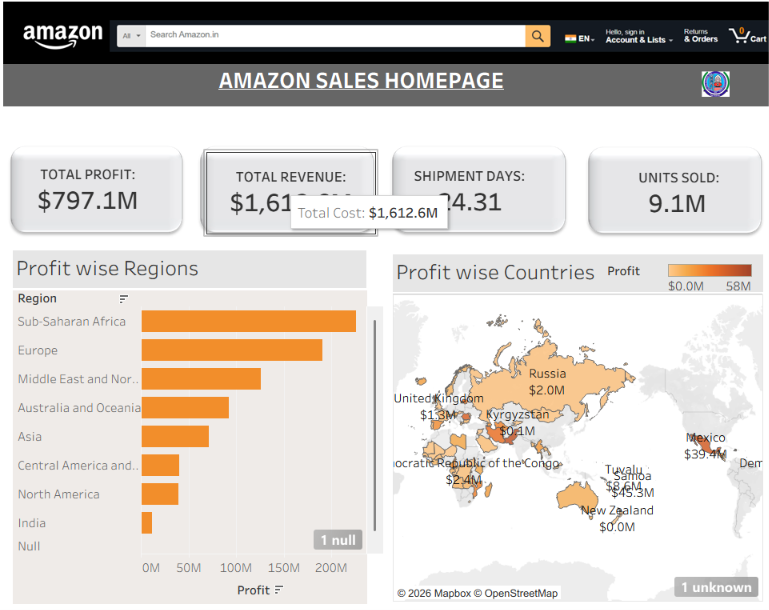

Layout of this report page (visuals, bound fields, positions):
{"tool":"tableau","page":{"name":"WELCOME Page","canvas":[1000,800],"ordinal":1},"visuals":[{"type":"blank","box":[14,13,965,84]},{"type":"image","param":"C:/Users/Aaditya Dalal/Desktop/amazon.png","box":[19,24,201,62]},{"type":"image","param":"C:/Users/Aaditya Dalal/Desktop/amaz.png","box":[147,36,827,54]},{"type":"blank","box":[14,91,965,53]},{"type":"text","box":[280,95,395,30]},{"type":"dashboard-object","box":[842,100,125,32]},{"type":"image","param":"C:/Users/Aaditya Dalal/Downloads/Picture5 1.png","box":[18,191,227,118]},{"type":"image","param":"C:/Users/Aaditya Dalal/Desktop/Amazon Dashboard.twb Files/Image/Picture5 1.png","box":[255,191,227,129]},{"type":"image","param":"C:/Users/Aaditya Dalal/Desktop/Amazon Dashboard.twb Files/Image/Picture5 1.png","box":[495,191,227,129]},{"type":"worksheet","title":"Profit","mark":"Automatic","box":[47,192,146,113]},{"type":"image","param":"C:/Users/Aaditya Dalal/Desktop/Amazon Dashboard.twb Files/Image/Picture5 1.png","box":[740,192,227,129]},{"type":"worksheet","title":"Shipment Days","mark":"Automatic","box":[505,194,184,113]},{"type":"worksheet","title":"Revenue","mark":"Automatic","box":[266,199,215,106]},{"type":"worksheet","title":"No of Units(Total orders)","mark":"Automatic","box":[756,208,201,90]},{"type":"worksheet","title":"Profit wise Regions","mark":"Automatic","rows":["Region"],"cols":["Calculation_1181768626655233"],"box":[26,324,463,442]},{"type":"worksheet","title":"Profit wise Countries","mark":"Automatic","box":[501,329,463,434]},{"type":"legend","title":"Profit wise Countries","param":"[federated.1q13umh1wwc1se12bgdpd073u4sh].[sum:Calculation_1181768626655233:qk]","box":[769,337,185,37]}]}

Visuals, with their boxes on the page's 1000x800 design canvas (x1, y1, x2, y2). These are canvas units, not pixel positions in the 769x610 screenshot, which may show the page scaled, cropped or inside an application window:
blank: x1=14, y1=13, x2=979, y2=97
image: x1=19, y1=24, x2=220, y2=86
image: x1=147, y1=36, x2=974, y2=90
blank: x1=14, y1=91, x2=979, y2=144
text: x1=280, y1=95, x2=675, y2=125
dashboard-object: x1=842, y1=100, x2=967, y2=132
image: x1=18, y1=191, x2=245, y2=309
image: x1=255, y1=191, x2=482, y2=320
image: x1=495, y1=191, x2=722, y2=320
"Profit" worksheet: x1=47, y1=192, x2=193, y2=305
image: x1=740, y1=192, x2=967, y2=321
"Shipment Days" worksheet: x1=505, y1=194, x2=689, y2=307
"Revenue" worksheet: x1=266, y1=199, x2=481, y2=305
"No of Units(Total orders)" worksheet: x1=756, y1=208, x2=957, y2=298
"Profit wise Regions" worksheet: x1=26, y1=324, x2=489, y2=766
"Profit wise Countries" worksheet: x1=501, y1=329, x2=964, y2=763
"Profit wise Countries" legend: x1=769, y1=337, x2=954, y2=374
